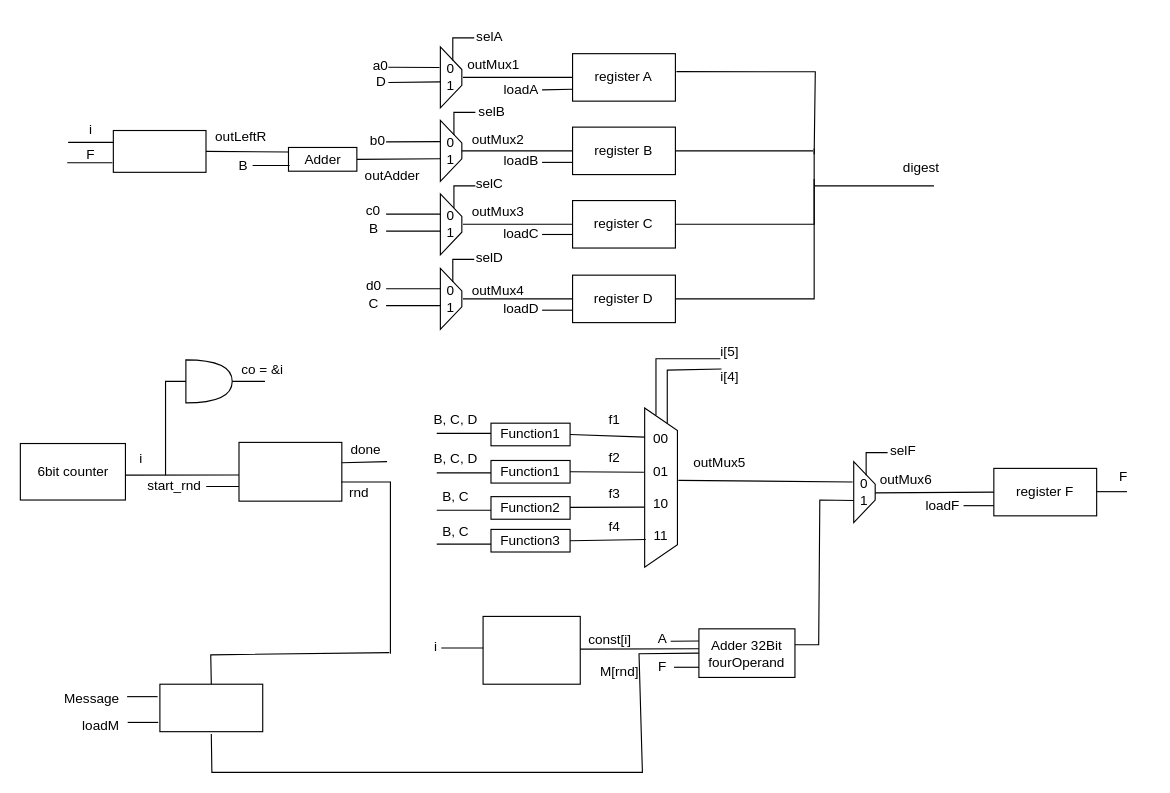
This 1170x793 diagram has some shape labels left out. The centre of each missing label's shape, as x and y in pixels:
"constant memory" goes at pixel 531 649.
"left rotation" goes at pixel 159 150.
"M File" goes at pixel 211 707.
"rnd_generator" goes at pixel 290 471.
